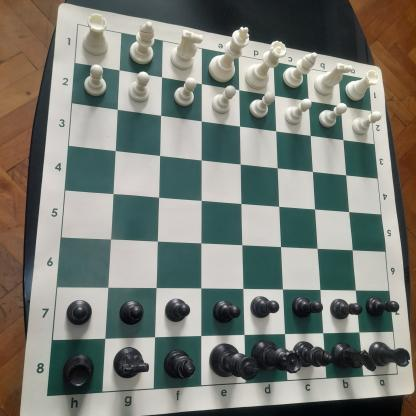black-bishop: (292, 338, 334, 370), (163, 348, 196, 382)
black-king: (208, 340, 261, 381)
black-knight: (330, 340, 376, 376), (112, 344, 150, 380)
black-pawn: (365, 294, 401, 319), (65, 298, 95, 327), (249, 293, 280, 320), (291, 295, 324, 320), (330, 297, 363, 321), (212, 298, 241, 324), (163, 297, 191, 323), (119, 300, 145, 326)
black-queen: (252, 336, 302, 374)
black-rook: (368, 339, 412, 372), (60, 352, 98, 389)
white-bishop: (282, 52, 318, 90), (128, 20, 156, 66)
white-king: (207, 26, 252, 84)
white-knight: (170, 29, 204, 71), (314, 63, 352, 96)
white-pawn: (81, 64, 110, 98), (351, 108, 382, 138), (317, 101, 347, 131), (248, 89, 276, 121), (172, 75, 198, 109), (283, 96, 312, 126), (209, 84, 236, 116), (127, 71, 152, 103)
white-queen: (243, 39, 287, 91)
white-rook: (80, 13, 111, 56), (345, 70, 380, 103)
